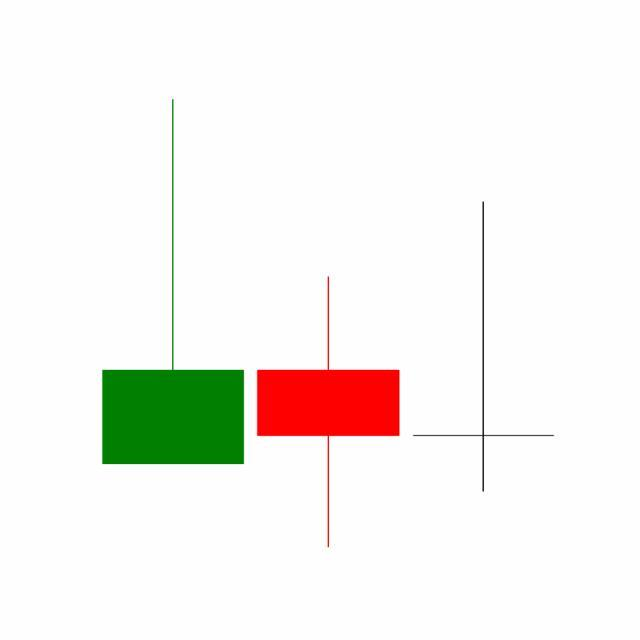Spinning Top: (250, 274, 407, 551)
